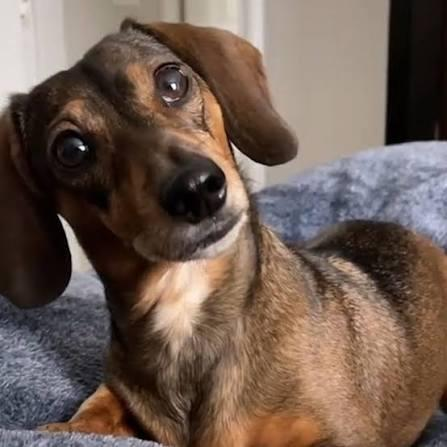adult_dog: (0, 14, 447, 447)
